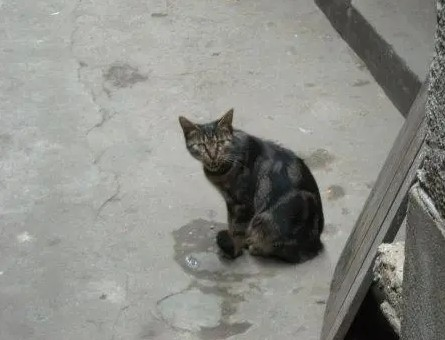cat: (179, 106, 326, 265)
